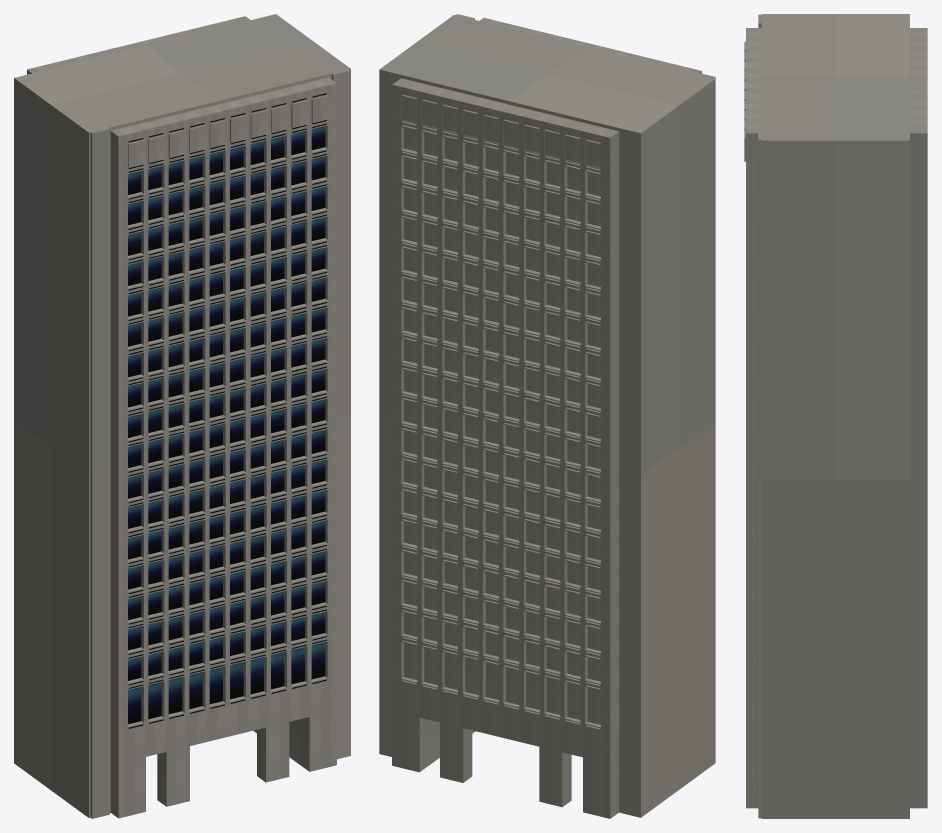
Rendered from green-building.obj.
The picture shows the model from 3 angles, left to right: view 1: azimuth 30°, elevation 25°; view 2: azimuth 150°, elevation 25°; view 3: azimuth 270°, elevation 25°; orthographic projection.
Parts seen in each view (by area): view 1: windows_1, building; view 2: building, windows_1; view 3: building, windows_1.
Boxes of the visible parts, x1,y1,x2,y2 form: windows_1: (110, 77, 336, 818); building: (14, 14, 350, 818); building: (379, 14, 715, 818); windows_1: (479, 18, 701, 73); building: (758, 14, 927, 818); windows_1: (744, 28, 761, 808).
Size of what is drawn, in the model's own units: 36 by 90 by 22.03.
